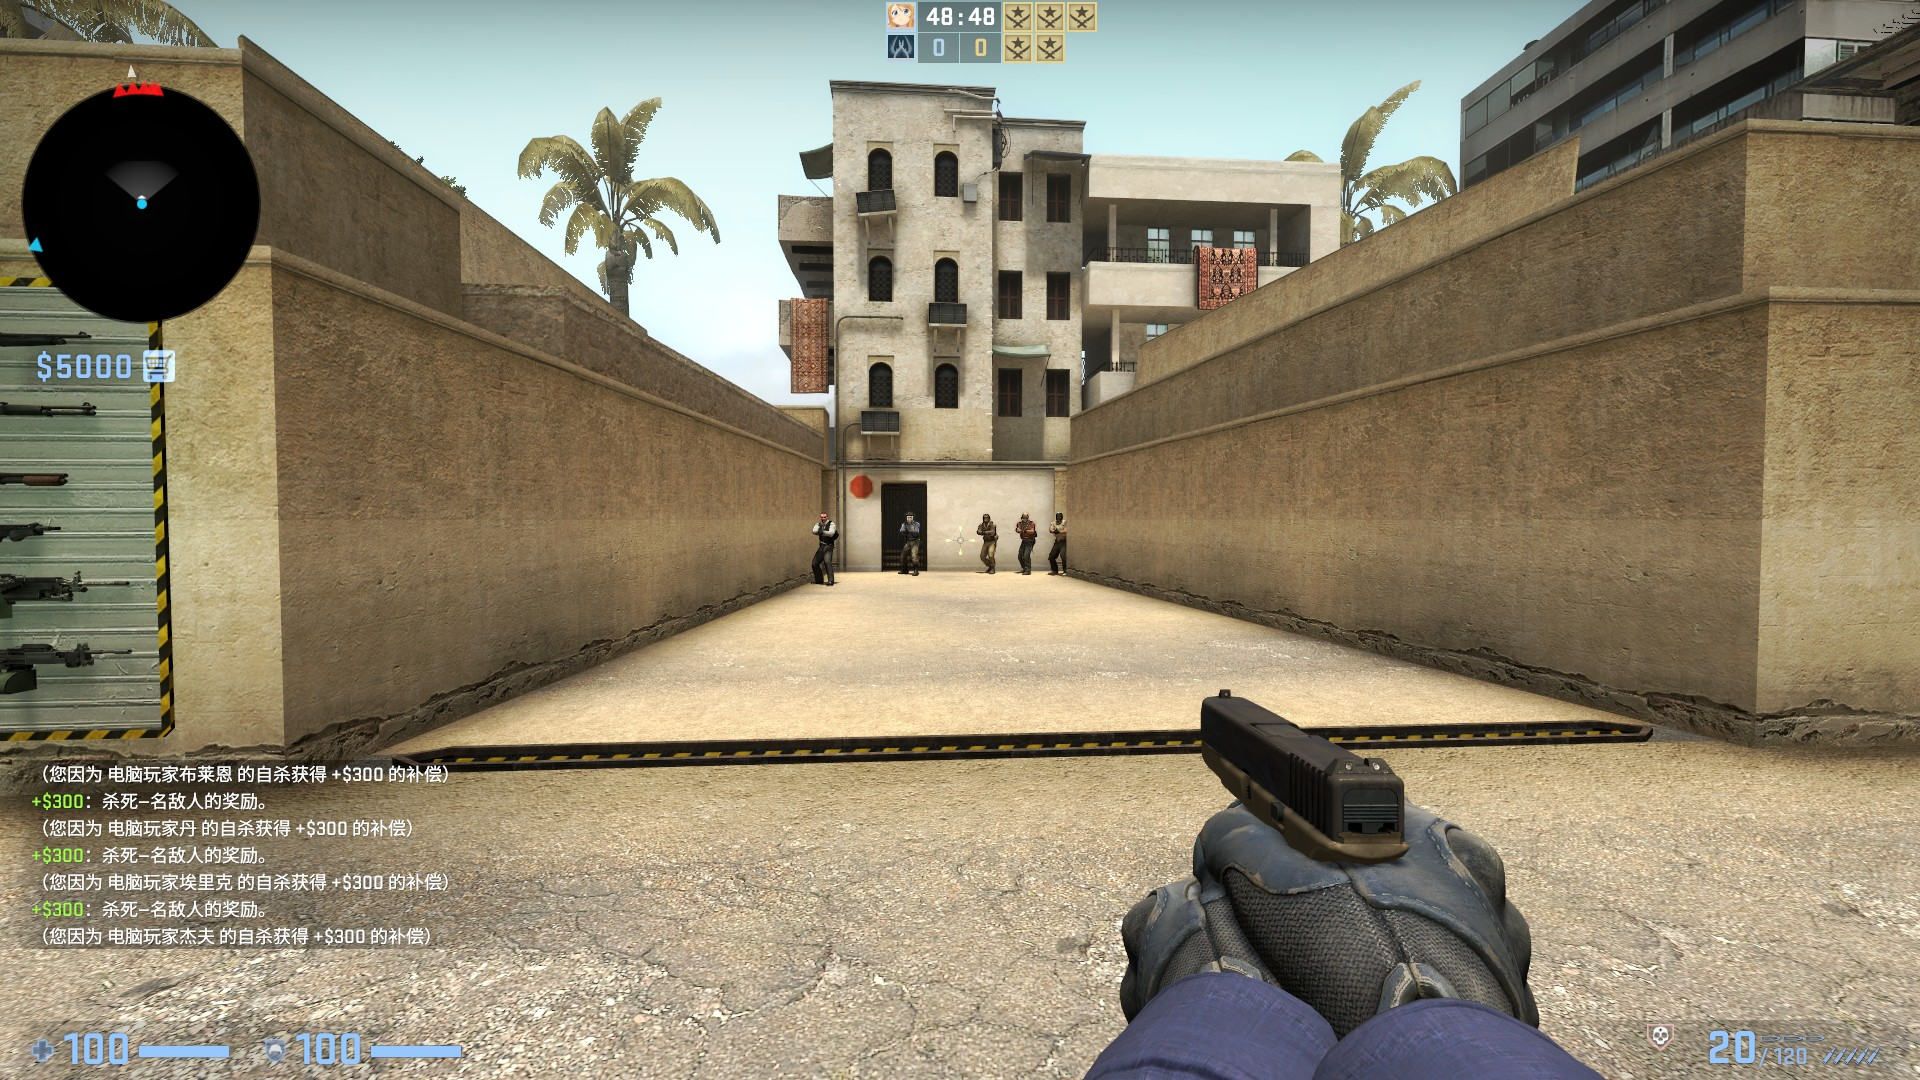head: (904, 511, 913, 523), (980, 513, 989, 523), (818, 511, 826, 521), (1055, 511, 1062, 522), (1021, 512, 1027, 522)
